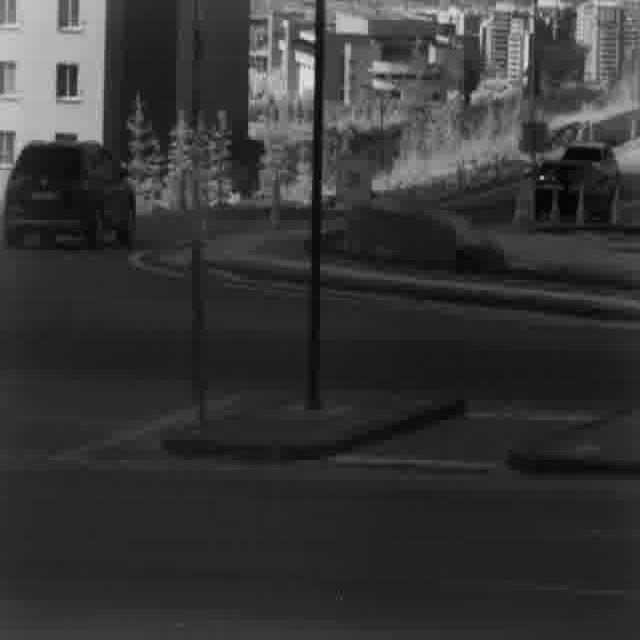Car: (5, 140, 140, 249), (523, 158, 611, 214), (560, 140, 622, 190)
